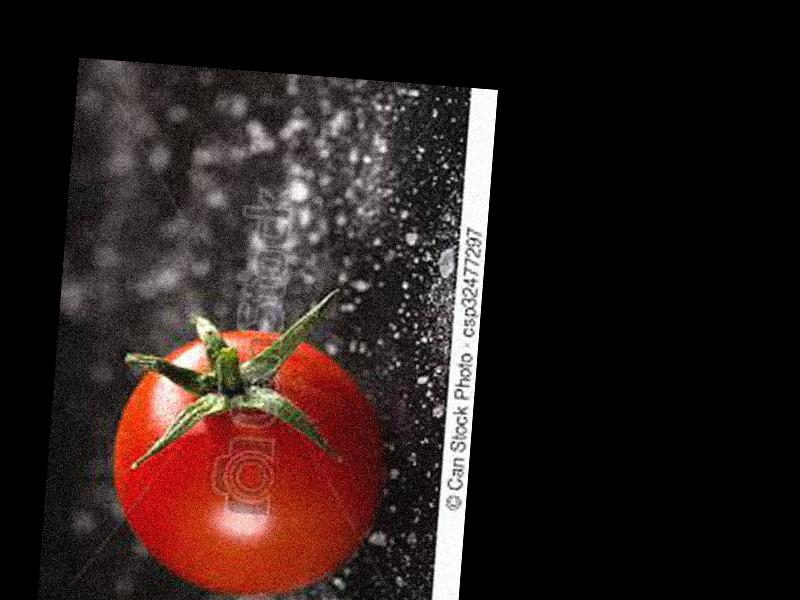Tomato: (103, 320, 391, 600)
